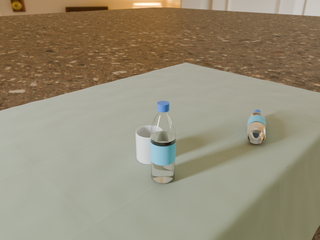bottle: (150, 101, 176, 183), (247, 110, 266, 144)
cup: (136, 126, 151, 164)
